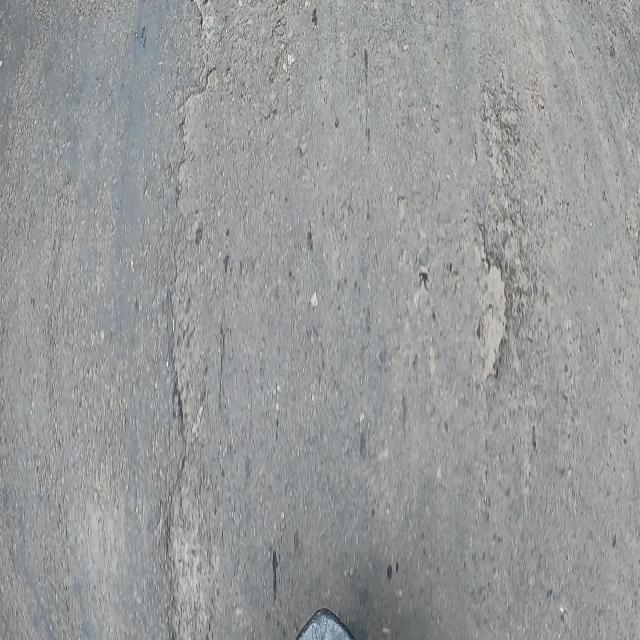Lubang: (478, 264, 506, 379)
